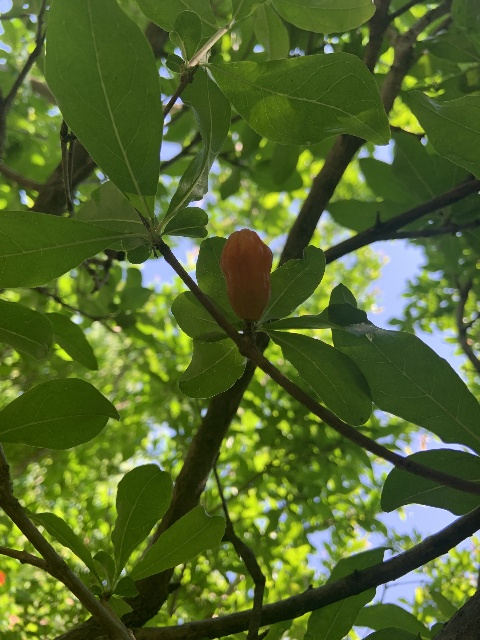bud: (219, 228, 272, 319)
